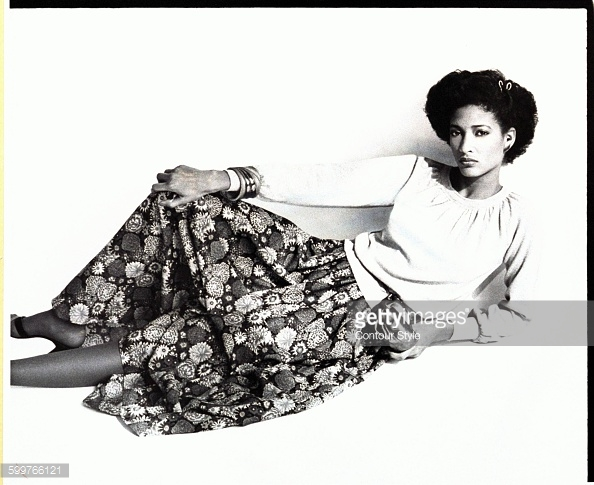deitado: (287, 58, 547, 375)
